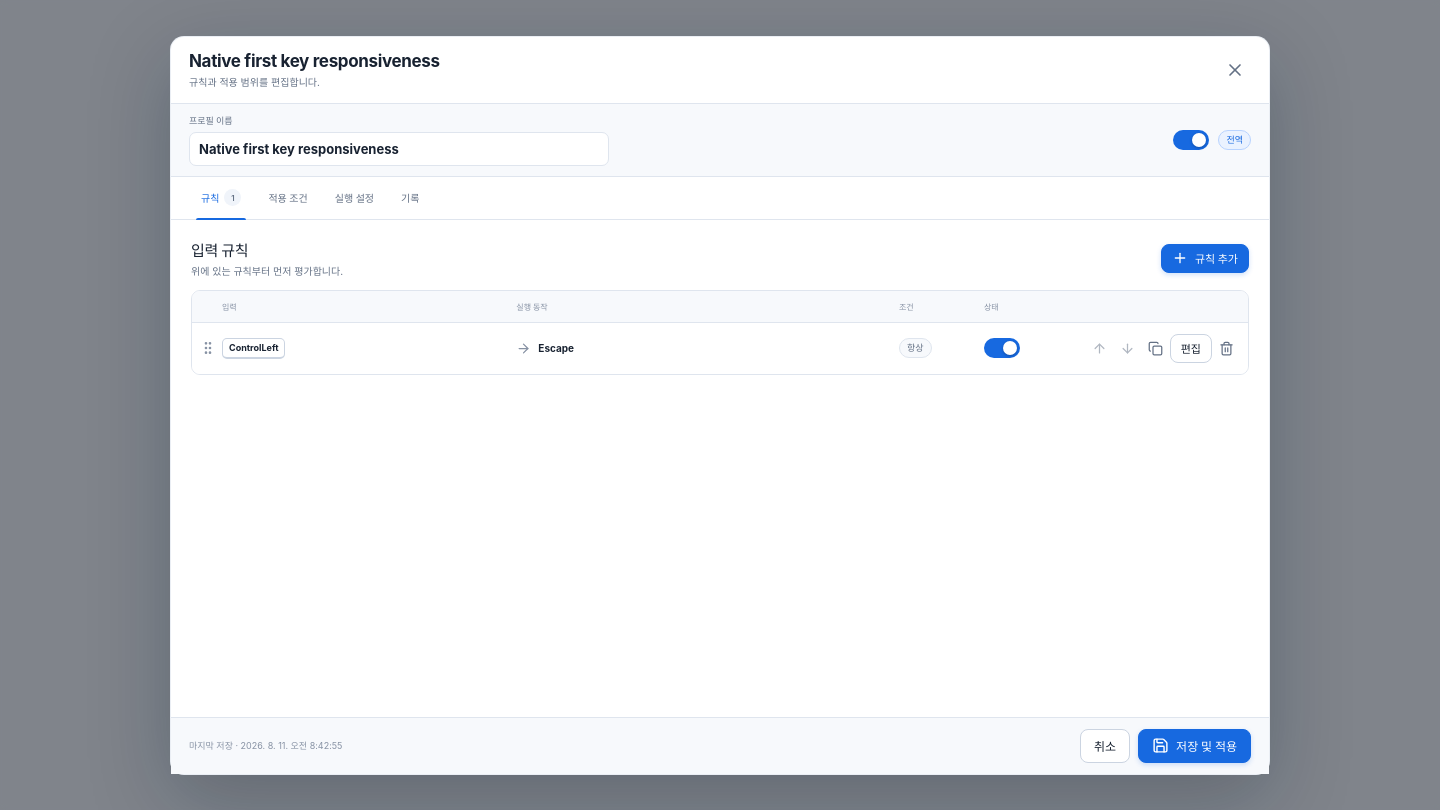
Test: ProfileEditor › shows the first ordinary key immediately while a native drain is still pending
Click the button "편집".
click(1191, 348)  # box [1170,334,1212,362]
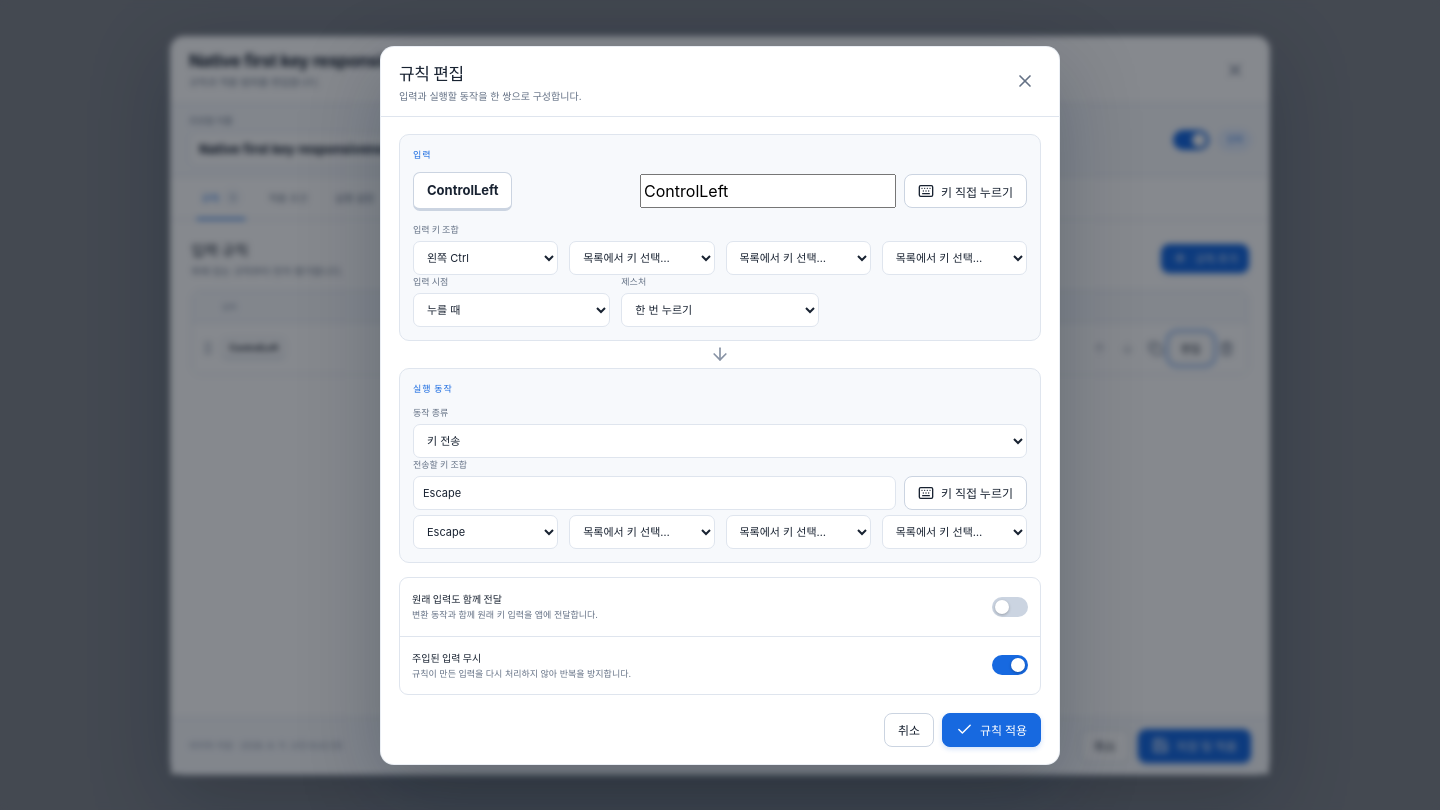
Click the button with aria-label "입력 키 직접 누르기".
click(966, 191)  # box [904,174,1027,208]
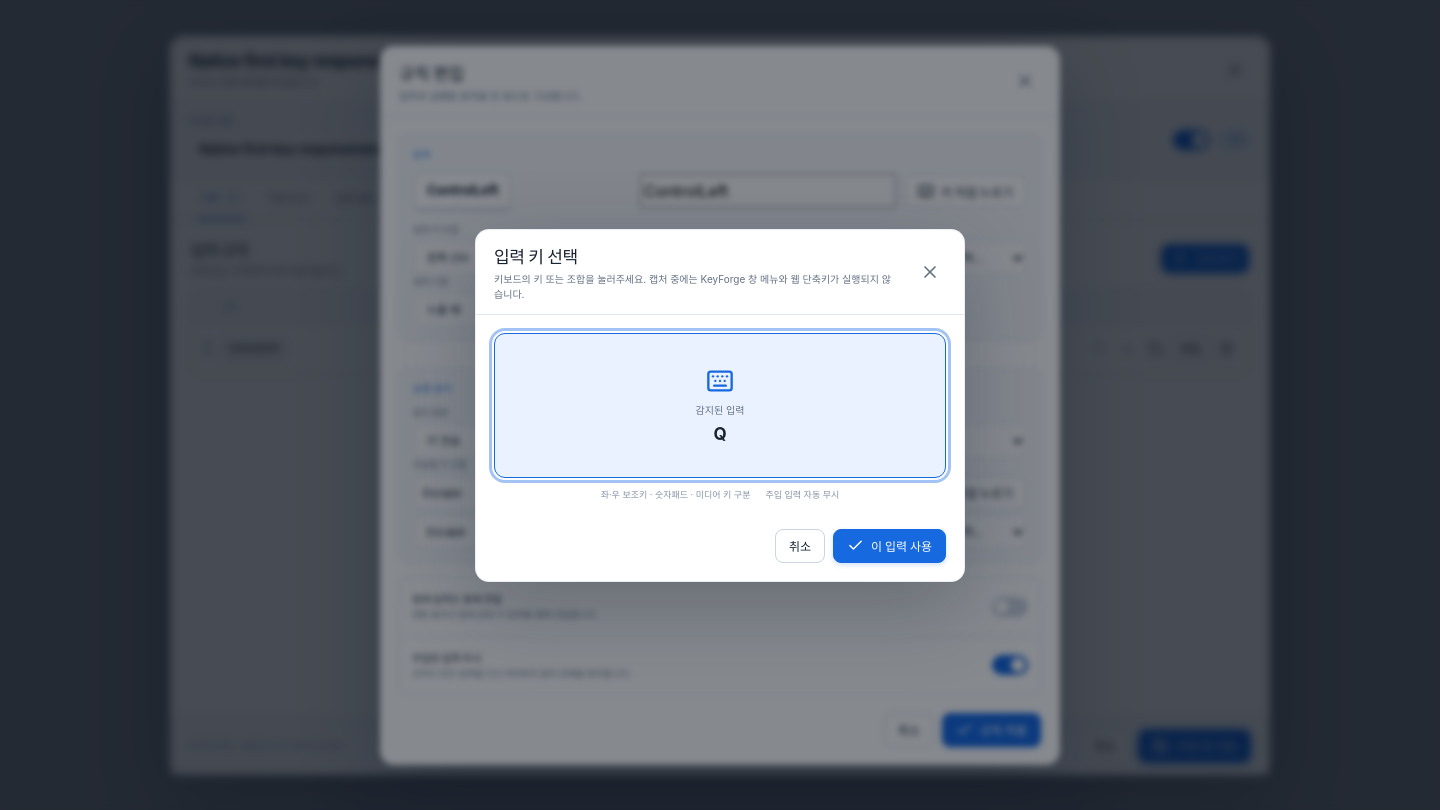
Expected: the button "이 입력 사용" is enabled, [833,528,946,562]
Expected: the text "Q" is shown, [713,424,727,444]
